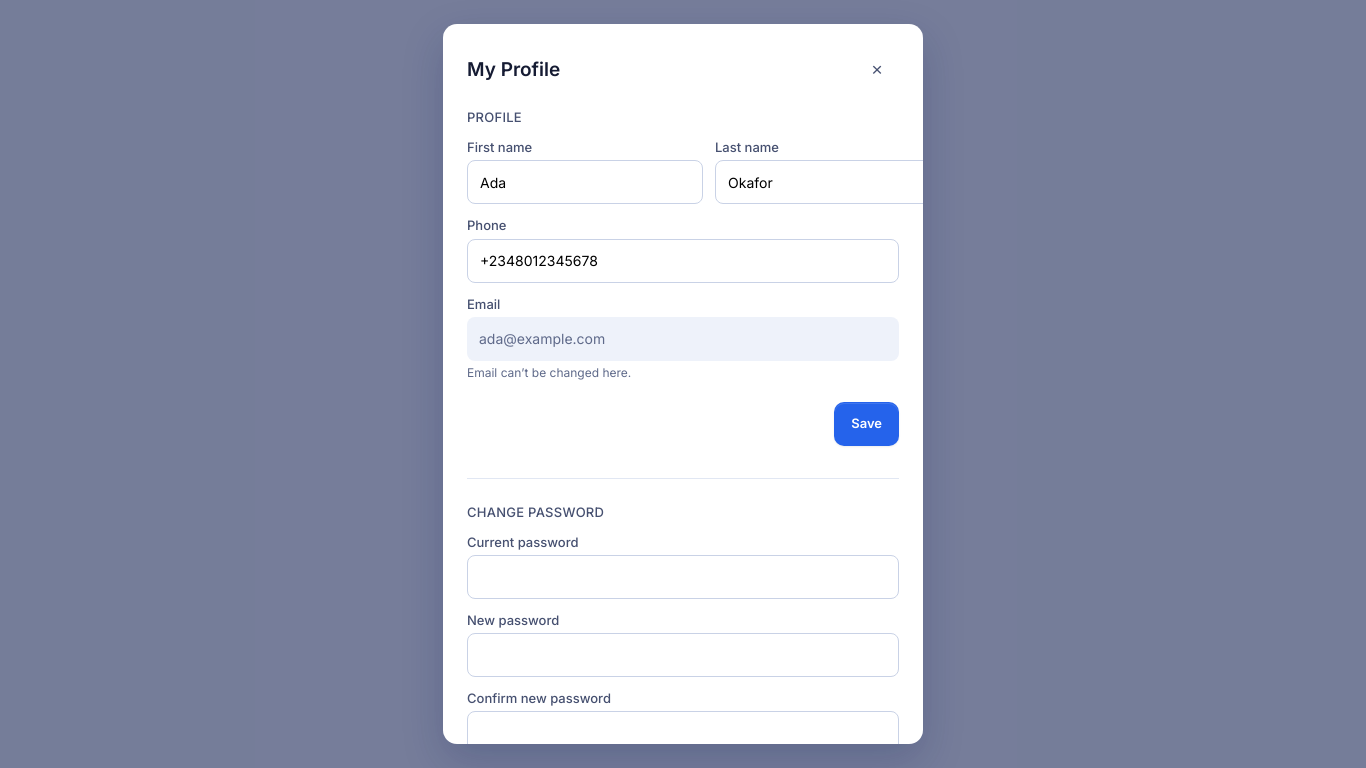
it: <MyAccountModal> › a validation error from the backend renders verbatim
Expected: the field showing "Ada" is shown, left=467, top=160, right=703, bottom=204
Step 1. Click the button "Save" → x=867, y=424, box left=834, top=402, right=899, bottom=446
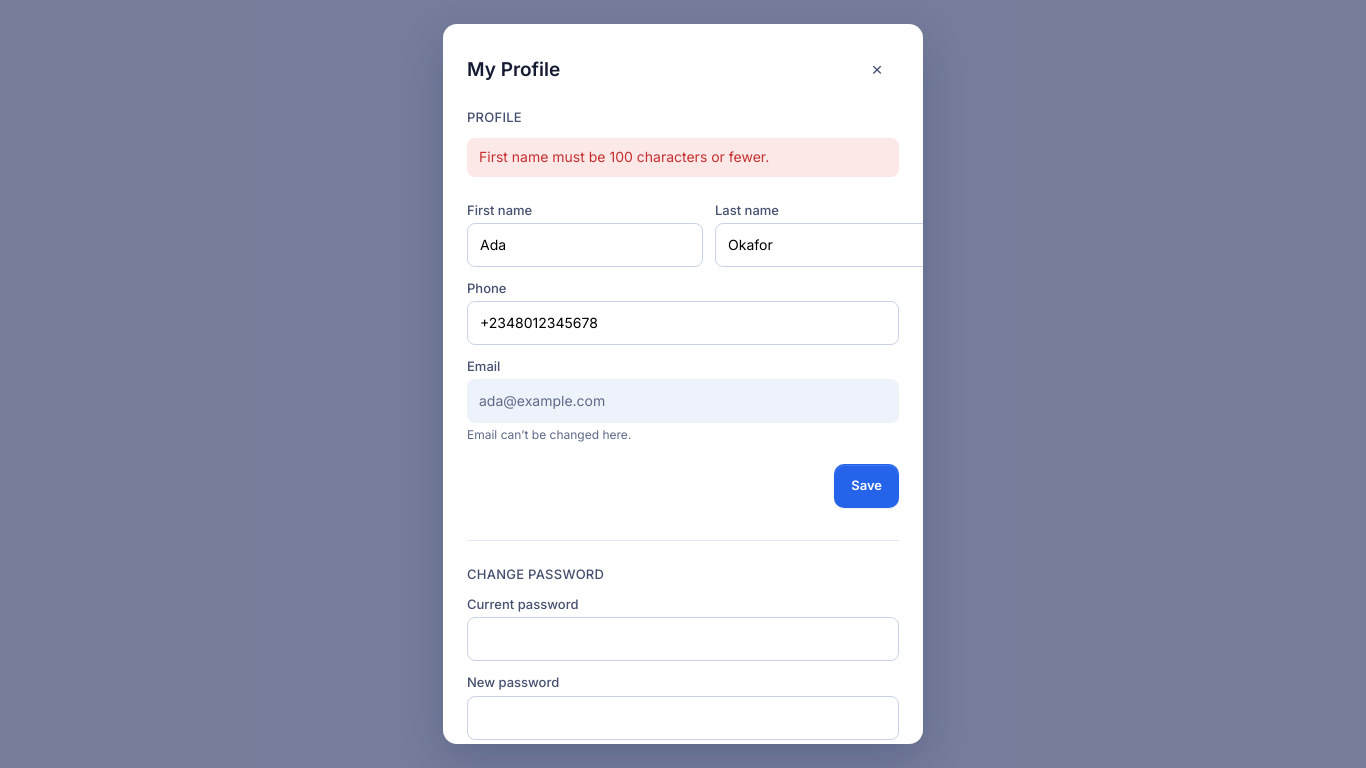
Expected: the message reads "First name must be 100 characters or fewer.", left=479, top=148, right=769, bottom=165
